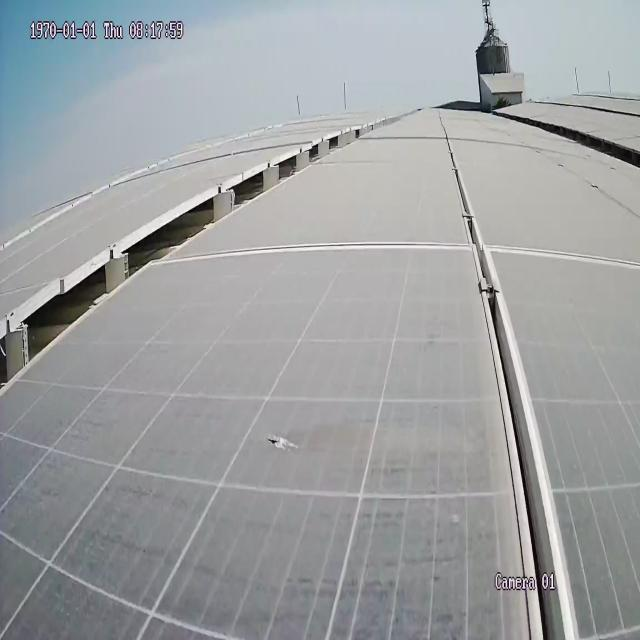interior panel: (434, 119, 575, 630), (177, 235, 461, 268), (492, 236, 636, 278)
outher panel: (2, 115, 392, 397), (502, 113, 640, 173)
